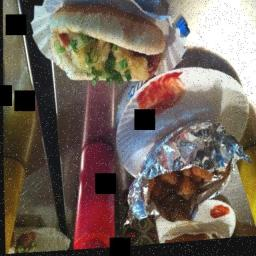hotdog: (50, 10, 176, 99), (137, 148, 235, 230)
